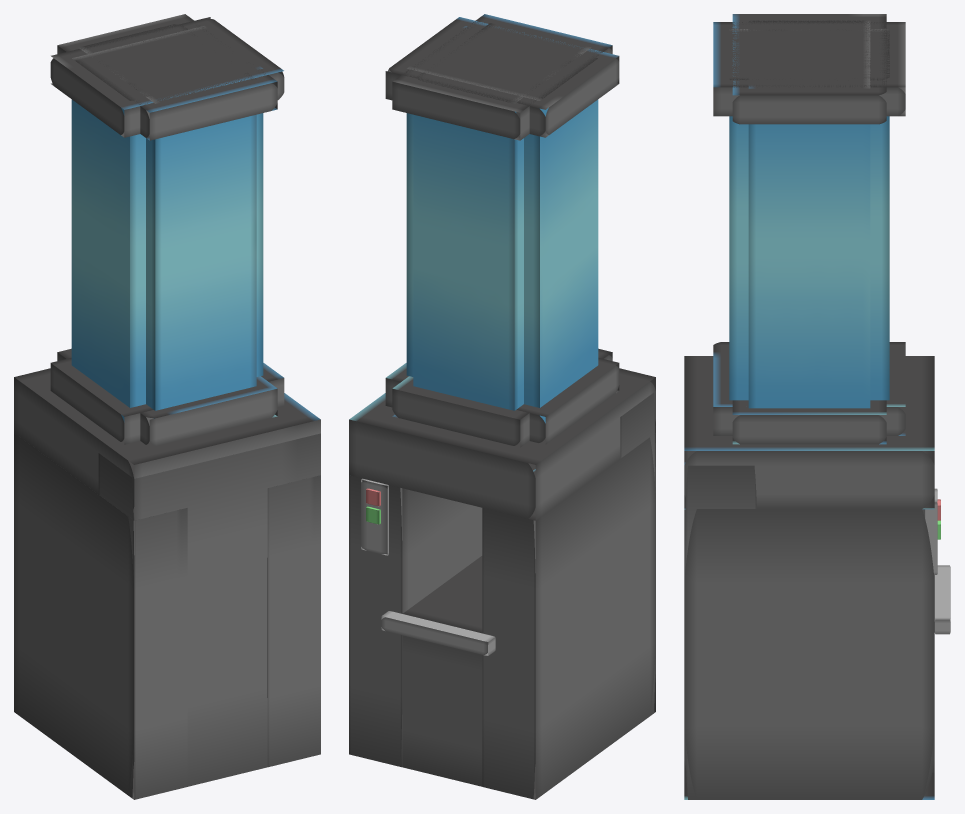
File: Tube_Straight_Reciever.fbx
The picture shows the model from 3 angles, left to right: view 1: azimuth 30°, elevation 25°; view 2: azimuth 150°, elevation 25°; view 3: azimuth 270°, elevation 25°; orthographic projection. The views are drawn at different scales.
Visible parts, largest first — view 1: cube_8, cube_1, cube_10, cube, cube_7, cube_6, cube_4, cube_5, cube_3, cube_2; view 2: cube_8, cube_1, cube, cube_6, cube_7, cube_11, cube_5, cube_4, cube_3, cube_2, cube_9, cube_10 (+1 smaller); view 3: cube_7, cube, cube_6, cube_1, cube_4, cube_5, cube_2, cube_10, cube_3, cube_9, cube_12, cube_11.
Boxes of the visible parts, bbox=[...] form: cube_8: bbox=[14, 433, 187, 799]; cube_1: bbox=[78, 24, 256, 418]; cube_10: bbox=[98, 433, 320, 797]; cube: bbox=[71, 26, 263, 422]; cube_7: bbox=[267, 475, 320, 767]; cube_6: bbox=[14, 368, 320, 508]; cube_4: bbox=[50, 17, 284, 137]; cube_5: bbox=[57, 14, 277, 140]; cube_3: bbox=[57, 348, 277, 445]; cube_2: bbox=[50, 358, 284, 444]; cube_8: bbox=[482, 437, 655, 799]; cube_1: bbox=[413, 23, 591, 410]; cube: bbox=[406, 26, 598, 423]; cube_6: bbox=[349, 368, 655, 520]; cube_7: bbox=[349, 475, 482, 766]; cube_11: bbox=[400, 556, 655, 799]; cube_5: bbox=[392, 14, 612, 140]; cube_4: bbox=[385, 17, 619, 137]; cube_3: bbox=[392, 348, 612, 447]; cube_2: bbox=[385, 358, 619, 444]; cube_9: bbox=[381, 611, 495, 655]; cube_10: bbox=[620, 392, 655, 715]; cube_7: bbox=[684, 495, 934, 799]; cube: bbox=[748, 20, 870, 408]; cube_6: bbox=[684, 356, 934, 509]; cube_1: bbox=[729, 29, 889, 400]; cube_4: bbox=[732, 14, 886, 124]; cube_5: bbox=[713, 22, 905, 116]; cube_2: bbox=[732, 400, 886, 444]; cube_10: bbox=[684, 451, 756, 799]; cube_3: bbox=[713, 342, 905, 435]; cube_9: bbox=[934, 565, 950, 634]; cube_12: bbox=[925, 488, 937, 574]; cube_11: bbox=[684, 729, 934, 799].
Size of the model in its own units: 21.89 by 75.01 by 25.94.
1 material, 1 textured.
